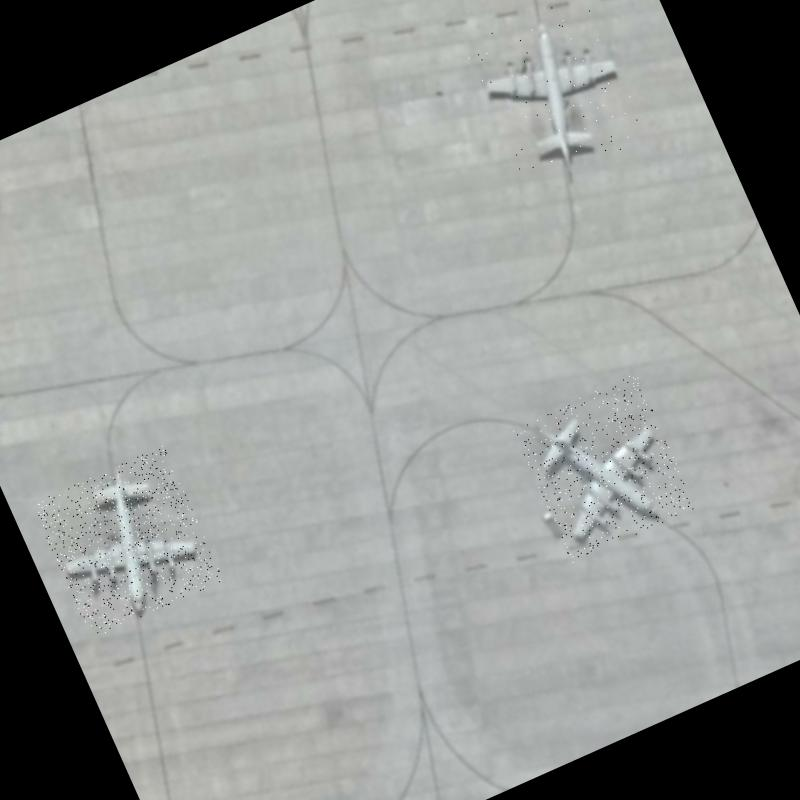A9: (31, 445, 224, 639), (462, 0, 656, 192), (512, 372, 696, 564)
